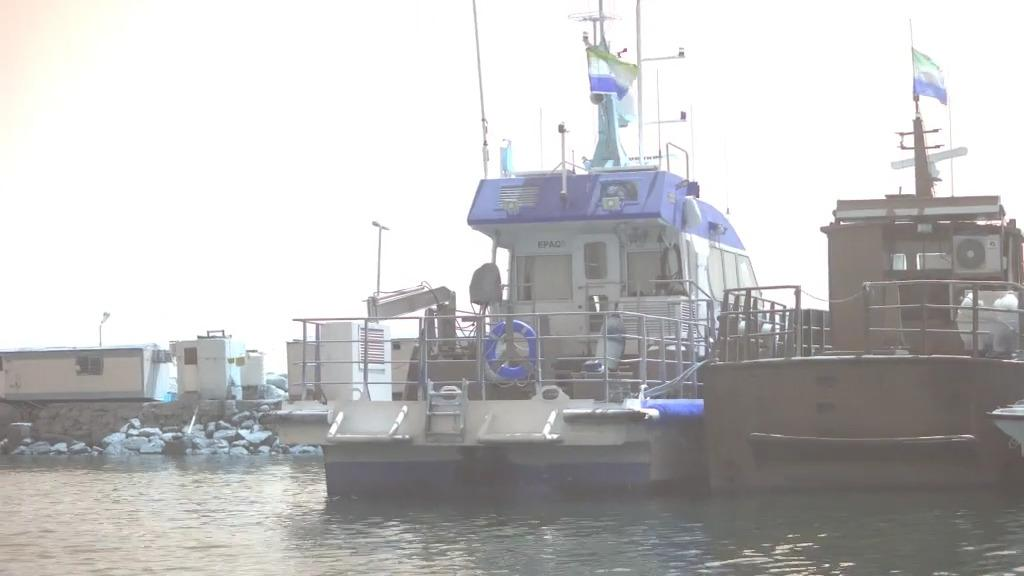PassengerShip: (298, 26, 794, 508), (698, 73, 1024, 505)
